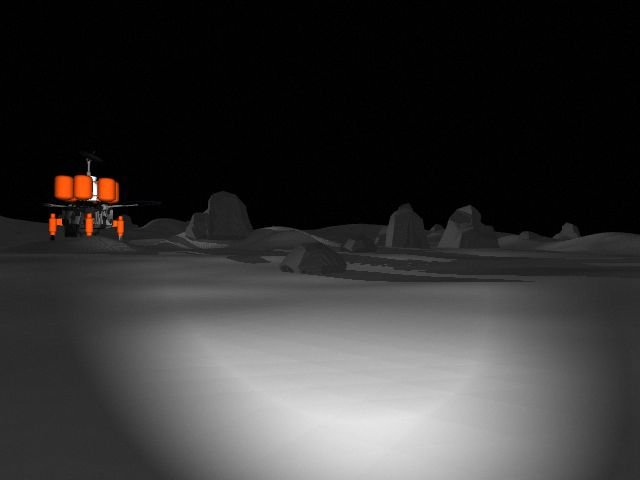homebase: (36, 153, 138, 247)
